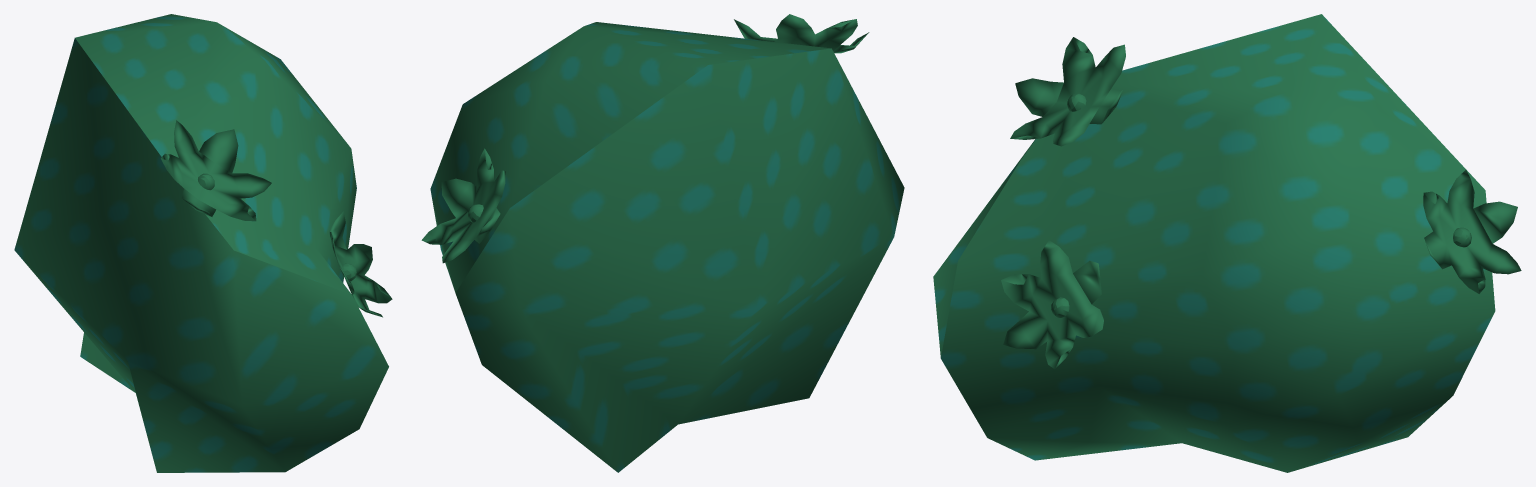
File: Copa4_EXP.fbx
The picture shows the model from 3 angles, left to right: view 1: azimuth 30°, elevation 25°; view 2: azimuth 150°, elevation 25°; view 3: azimuth 270°, elevation 25°; orthographic projection. The views are drawn at different scales.
Visible parts, largest first — view 1: Copa_4EXP; view 2: Copa_4EXP; view 3: Copa_4EXP.
Part boxes in pixels (<box>): Copa_4EXP: <box>14,14,392,472</box>; Copa_4EXP: <box>421,14,904,472</box>; Copa_4EXP: <box>933,14,1521,472</box>.
Bounding box in the file's own units: 39.05 × 45.61 × 58.99.
Materials: 1 (1 with a texture image).
